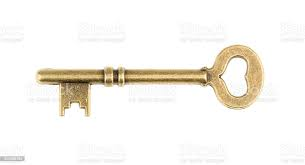key: (26, 33, 273, 124)
